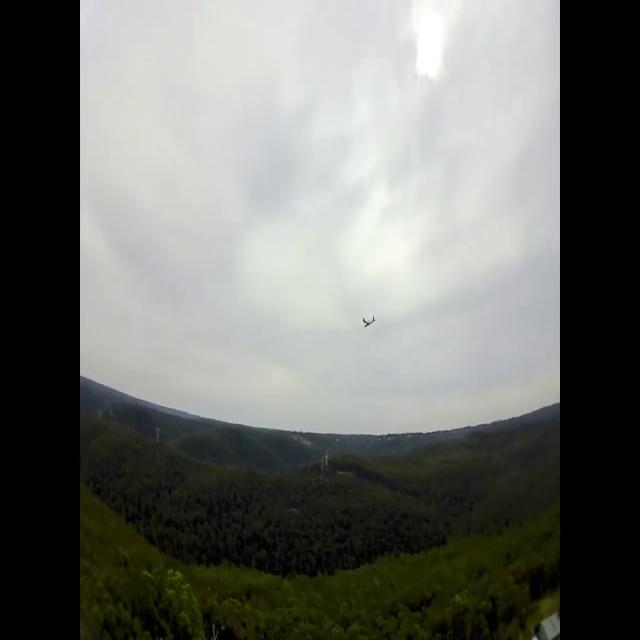iha: (366, 316, 372, 332)
